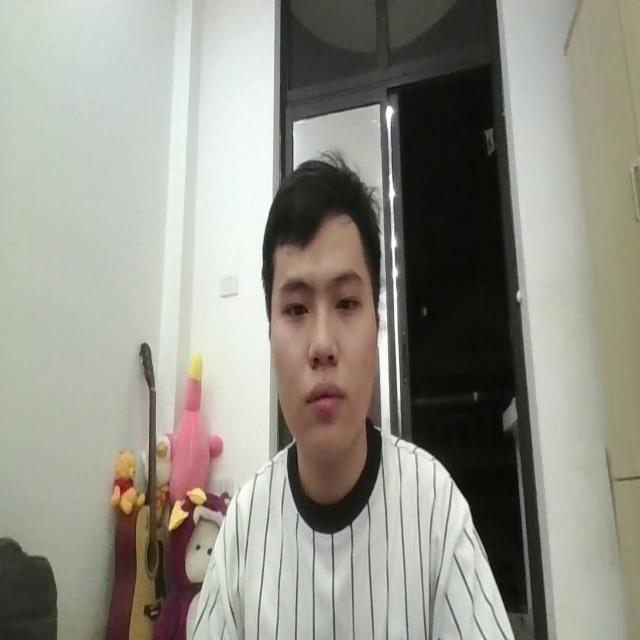student: (194, 153, 510, 640)
